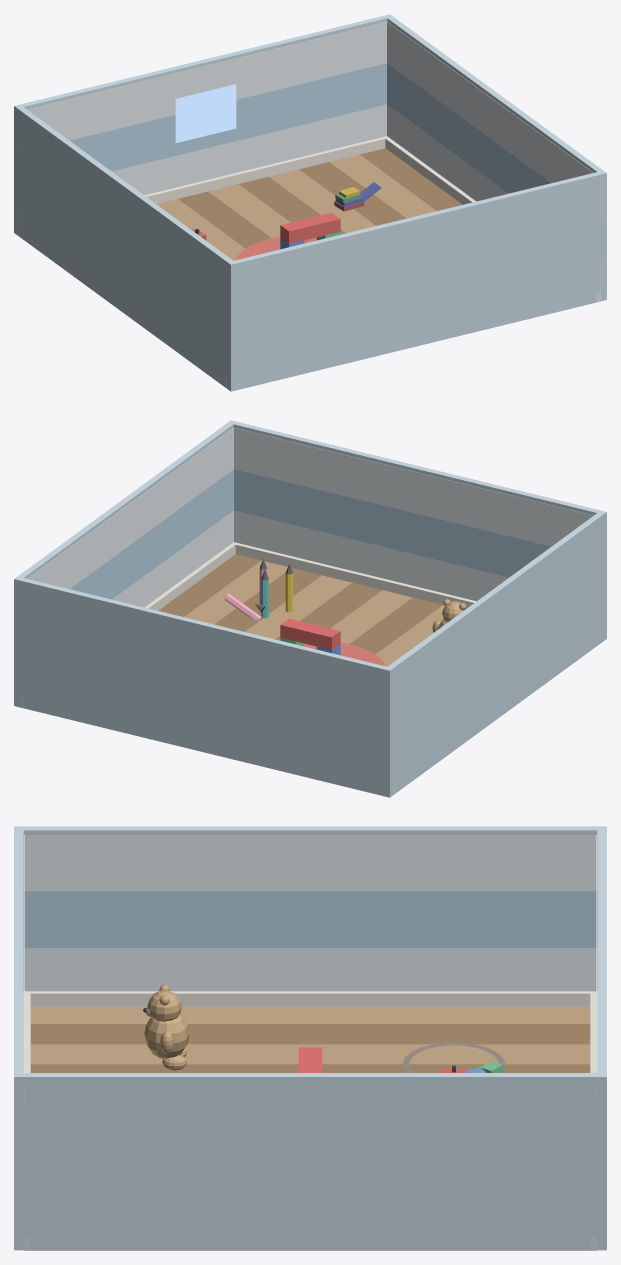
Rendered from toybox_titan.glb.
The picture shows the model from 3 angles, top to bottom: view 1: azimuth 30°, elevation 25°; view 2: azimuth 150°, elevation 25°; view 3: azimuth 270°, elevation 25°; orthographic projection. The views are drawn at different scales.
Parts seen in each view (by area): view 1: Wall_south, WallDeco_north_stripes_nocol, Wall_west, WallDeco_east_stripes_nocol, Floor_planks_light, Floor_planks_dark, Wall_baseboard, Wall_north, WallWindow_north_nocol, Wall_east, Block_castle_lintel, Rug_center (+1 smaller); view 2: Wall_north, WallDeco_south_stripes_nocol, Wall_west, WallDeco_east_stripes_nocol, Floor_planks_dark, Floor_planks_light, Wall_baseboard, Wall_south, Wall_east, Block_castle_lintel, Rug_center; view 3: Wall_east, WallDeco_west_stripes_nocol, Floor_planks_light, Floor_planks_dark, Wall_baseboard, Wall_west, Wall_north, Wall_south, Teddy_bear, Block_castle_lintel, Train_rail_ring_nocol.
Boxes of the visible parts, bbox=[...] form: Wall_south: bbox=[227, 172, 606, 391]; WallDeco_north_stripes_nocol: bbox=[17, 22, 386, 234]; Wall_west: bbox=[14, 104, 236, 390]; WallDeco_east_stripes_nocol: bbox=[387, 22, 600, 301]; Floor_planks_light: bbox=[156, 154, 436, 260]; Floor_planks_dark: bbox=[178, 148, 462, 248]; Wall_baseboard: bbox=[18, 136, 600, 389]; Wall_north: bbox=[14, 14, 392, 234]; WallWindow_north_nocol: bbox=[175, 84, 236, 142]; Wall_east: bbox=[385, 14, 606, 300]; Block_castle_lintel: bbox=[280, 212, 340, 243]; Rug_center: bbox=[235, 236, 316, 260]; Wall_north: bbox=[14, 578, 393, 797]; WallDeco_south_stripes_nocol: bbox=[234, 428, 593, 601]; Wall_west: bbox=[384, 510, 606, 796]; WallDeco_east_stripes_nocol: bbox=[20, 428, 233, 707]; Floor_planks_dark: bbox=[158, 554, 442, 654]; Floor_planks_light: bbox=[184, 560, 444, 666]; Wall_baseboard: bbox=[20, 542, 476, 795]; Wall_south: bbox=[228, 420, 606, 641]; Wall_east: bbox=[14, 421, 234, 706]; Block_castle_lintel: bbox=[280, 618, 340, 649]; Rug_center: bbox=[304, 642, 385, 666]; Wall_east: bbox=[14, 1073, 606, 1250]; WallDeco_west_stripes_nocol: bbox=[23, 835, 597, 991]; Floor_planks_light: bbox=[30, 1006, 590, 1064]; Floor_planks_dark: bbox=[24, 1024, 596, 1250]; Wall_baseboard: bbox=[23, 991, 597, 1250]; Wall_west: bbox=[14, 826, 605, 834]; Wall_north: bbox=[597, 826, 606, 1250]; Wall_south: bbox=[14, 826, 23, 1250]; Teddy_bear: bbox=[143, 984, 189, 1070]; Block_castle_lintel: bbox=[298, 1047, 322, 1072]; Train_rail_ring_nocol: bbox=[403, 1042, 504, 1072].
Bounding box in the file's own units: 124 × 41.32 × 124.
